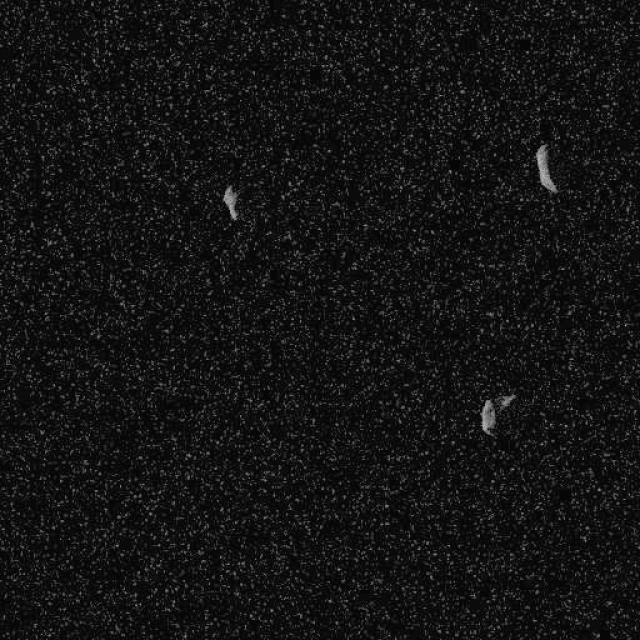D2: (479, 392, 516, 437), (534, 142, 558, 194), (221, 184, 239, 220)
